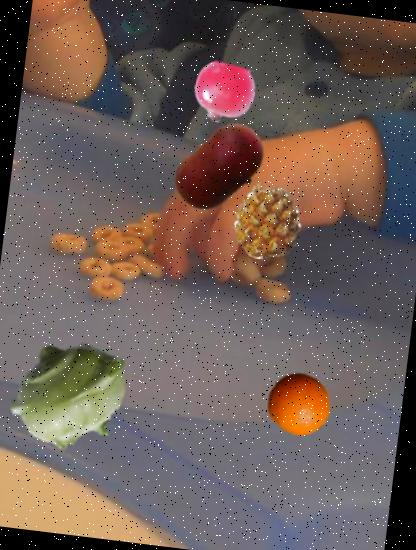Kohlrabi: (1, 323, 143, 465)
Nectarine: (164, 111, 275, 222)
Orange: (264, 368, 334, 440)
Pineapple: (224, 180, 310, 266)
Redcurrant: (190, 59, 258, 127)
